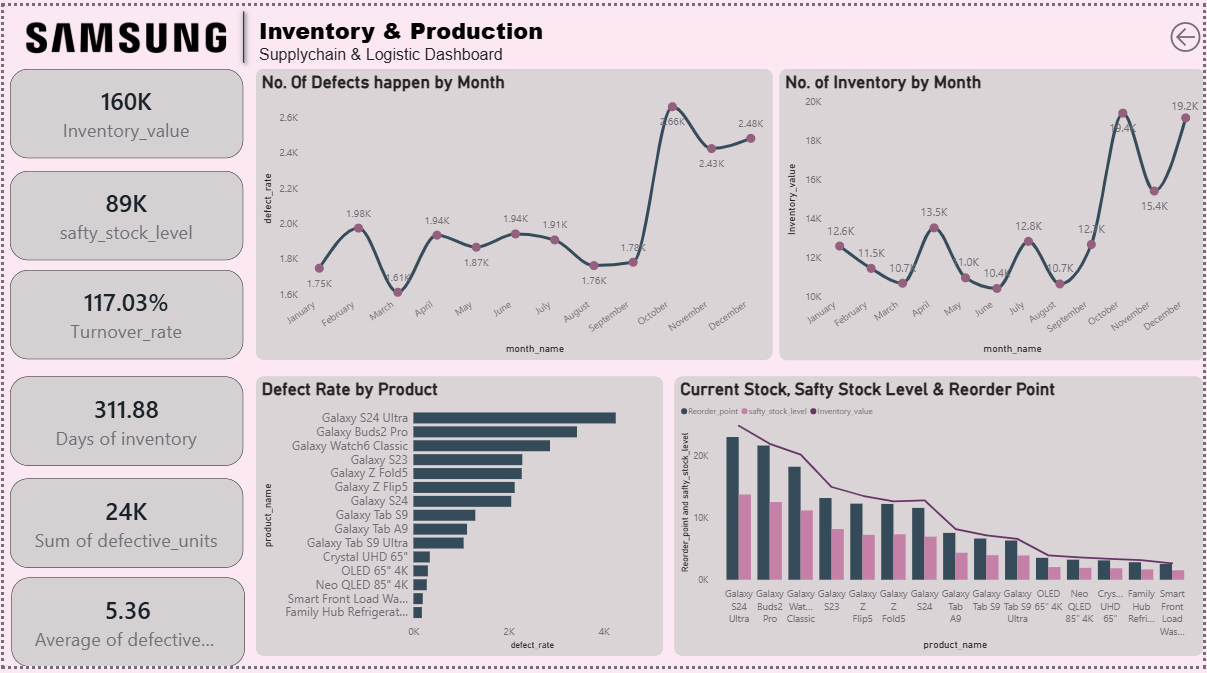

Layout of this report page (visuals, bound fields, positions):
{"tool":"powerbi","page":{"name":"Inventory & Production","canvas":[2000,1100],"ordinal":3},"visuals":[{"type":"image","box":[9.9,0,371.1,103.9],"z":0},{"type":"shape","box":[346.3,0,103.9,103.9],"z":1000},{"type":"textbox","box":[420.5,7.4,677.8,96.5],"z":2000},{"type":"cardVisual","fields":{"Data":["Table.Inventory_value"]},"box":[9.9,103.9,388.4,148.4],"z":3000},{"type":"cardVisual","fields":{"Data":["Table.safty_stock_level"]},"box":[9.9,274.6,388.4,148.4],"z":4000},{"type":"cardVisual","fields":{"Data":["Table.Turnover_rate"]},"box":[9.9,440.3,388.4,148.4],"z":5000},{"type":"cardVisual","fields":{"Data":["Table.Days of inventory"]},"box":[9.9,618.5,388.4,148.4],"z":6000},{"type":"cardVisual","fields":{"Data":["Sum(fact_production.defective_units)"]},"box":[9.9,786.7,388.4,148.4],"z":7000},{"type":"cardVisual","fields":{"Data":["Avg(fact_production.defective_units)"]},"box":[12.4,952.4,388.4,148.4],"z":8000},{"type":"lineChart","title":"No. Of Defects happen by Month","fields":{"Y":["Table.defect_rate"],"Category":["dim_date.month_name"]},"box":[420.5,103.9,860.9,484.9],"z":9000},{"type":"lineChart","title":"No. of Inventory by Month","fields":{"Y":["Table.Inventory_value"],"Category":["dim_date.month_name"]},"box":[1292,104,708,485],"z":10000},{"type":"clusteredBarChart","title":"Defect Rate by Product","fields":{"Category":["dim_product.product_name"],"Y":["Table.defect_rate"]},"box":[420.5,618.5,677.8,465.1],"z":11000},{"type":"lineClusteredColumnComboChart","title":"Current Stock, Safty Stock Level & Reorder Point ","fields":{"Category":["dim_product.product_name"],"Y":["Table.Reorder_point","Table.safty_stock_level"],"Y2":["Table.Inventory_value"]},"box":[1118.2,618.5,880.7,465.1],"z":12000},{"type":"actionButton","box":[1936.7,0,63.3,103.3],"z":13000}]}

Visuals, with their boxes in screenshot pixels (x1, y1, x2, y2), scaled from the page's 2000x1100 canvas onto the 1207x673 screenshot:
image: region(6, 0, 230, 64)
shape: region(209, 0, 272, 64)
textbox: region(254, 5, 663, 64)
cardVisual - Table.Inventory_value: region(6, 64, 240, 154)
cardVisual - Table.safty_stock_level: region(6, 168, 240, 259)
cardVisual - Table.Turnover_rate: region(6, 269, 240, 360)
cardVisual - Table.Days of inventory: region(6, 378, 240, 469)
cardVisual - Sum(fact_production.defective_units): region(6, 481, 240, 572)
cardVisual - Avg(fact_production.defective_units): region(7, 583, 242, 672)
"No. Of Defects happen by Month" lineChart: region(254, 64, 773, 360)
"No. of Inventory by Month" lineChart: region(780, 64, 1206, 360)
"Defect Rate by Product" clusteredBarChart: region(254, 378, 663, 663)
"Current Stock, Safty Stock Level & Reorder Point " lineClusteredColumnComboChart: region(675, 378, 1206, 663)
actionButton: region(1169, 0, 1206, 63)
